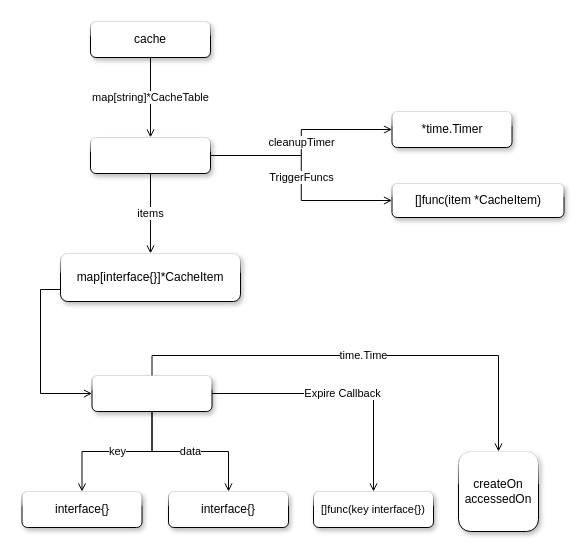
Image size: 587x556. Some labels were removed from this diagram. Each missing label, with the centre of its shape:
"CacheItem" belongs at pixel 152 394.
"CacheTable" belongs at pixel 151 156.
